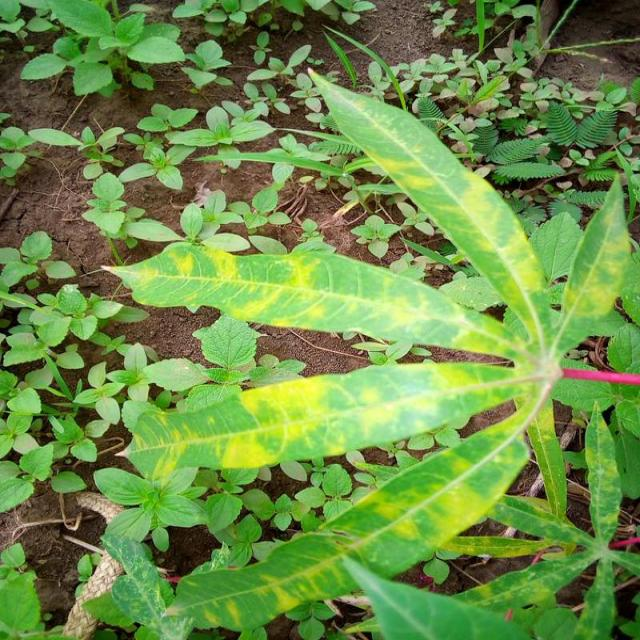cassava leaf: (90, 65, 633, 636), (306, 64, 552, 355), (120, 356, 531, 481), (100, 238, 521, 360)
